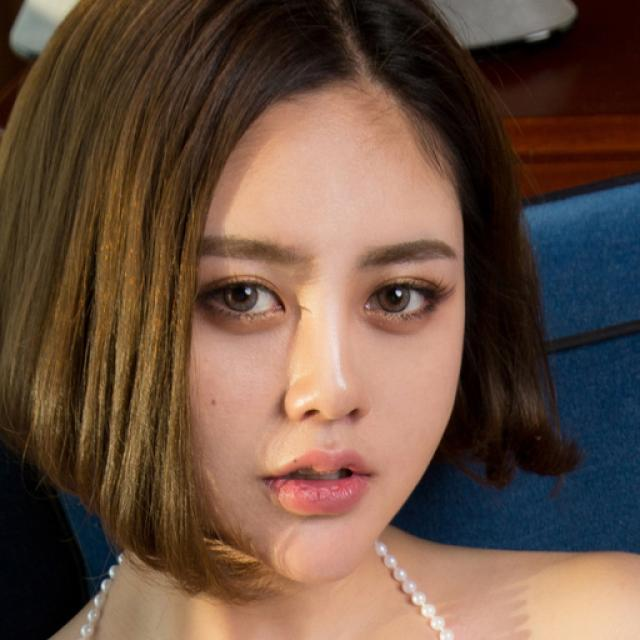neutral: (174, 92, 466, 582)
